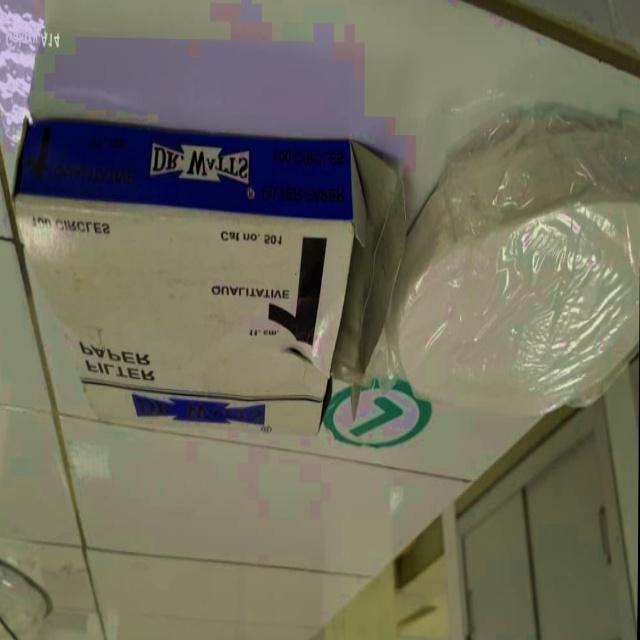Filter paper: (48, 106, 634, 439)
